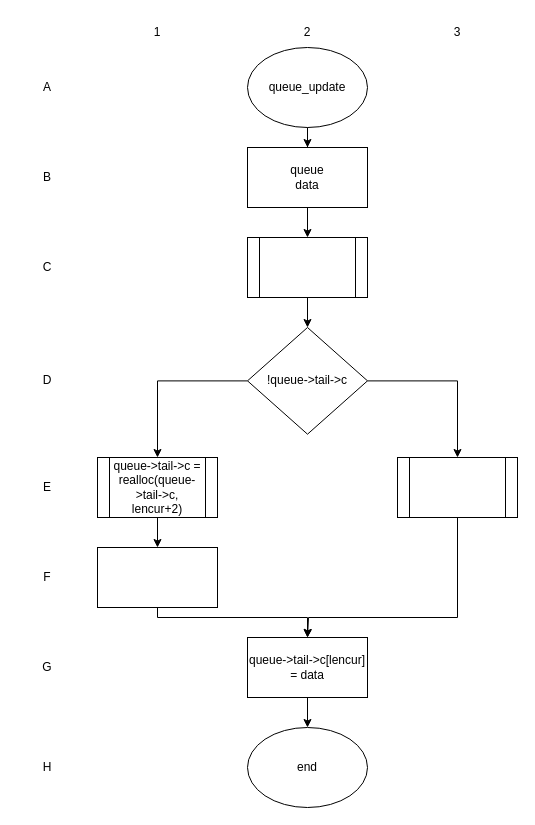
Some shapes in this 535 by 825 pixel diagram are drawn without their labels. The box of each missing label's shape, as (x1, y1, x2, y2) in pixels:
lencur = strlen(queue->tail->c): (246, 236, 368, 298)
queue->tail->c = calloc(lencur+2, sizeof(char)): (396, 456, 518, 518)
queue->tail->c[lencur+1] = 0: (96, 546, 218, 608)
